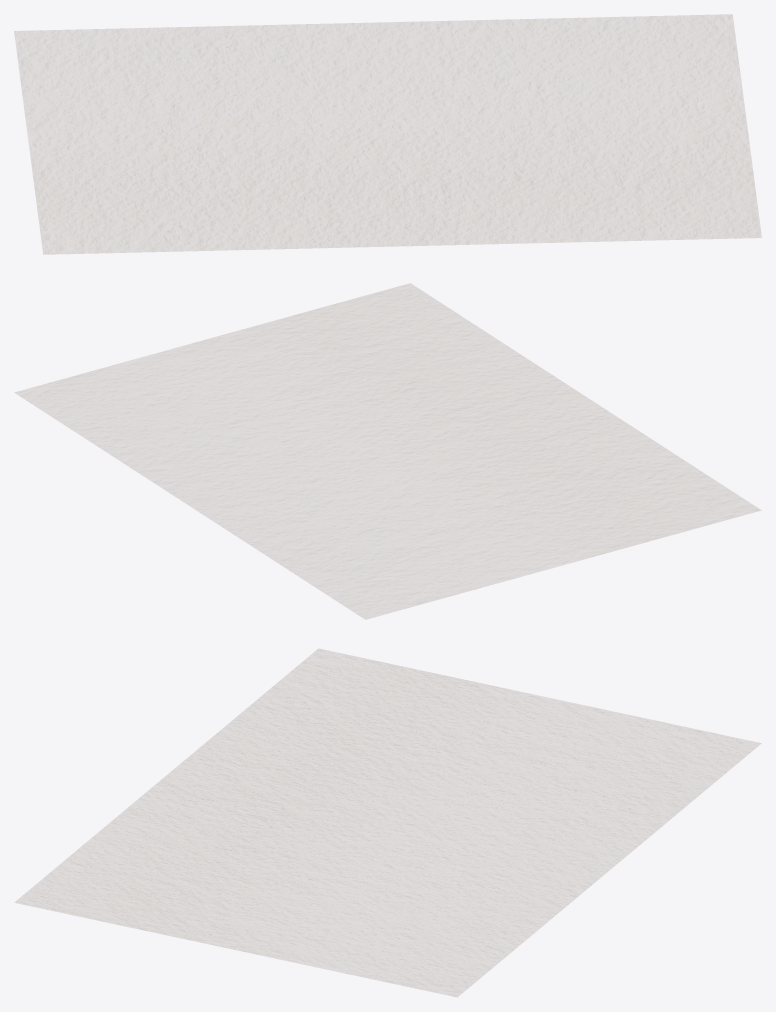
The model's file is pattern_sel_paper.fbx.
3 renders of one model, top to bottom at view 1: azimuth 30°, elevation 25°; view 2: azimuth 150°, elevation 25°; view 3: azimuth 270°, elevation 25°, orthographic. The views are drawn at different scales.
Visible parts, largest first — view 1: pattern_sel_paper; view 2: pattern_sel_paper; view 3: pattern_sel_paper.
Boxes of the visible parts, x1,y1,x2,y2 form: pattern_sel_paper: [14, 14, 761, 254]; pattern_sel_paper: [14, 283, 761, 619]; pattern_sel_paper: [14, 648, 761, 997].
Size of the model in its own units: 46.55 by 0 by 42.14.
Materials: 1 (1 with a texture image).
